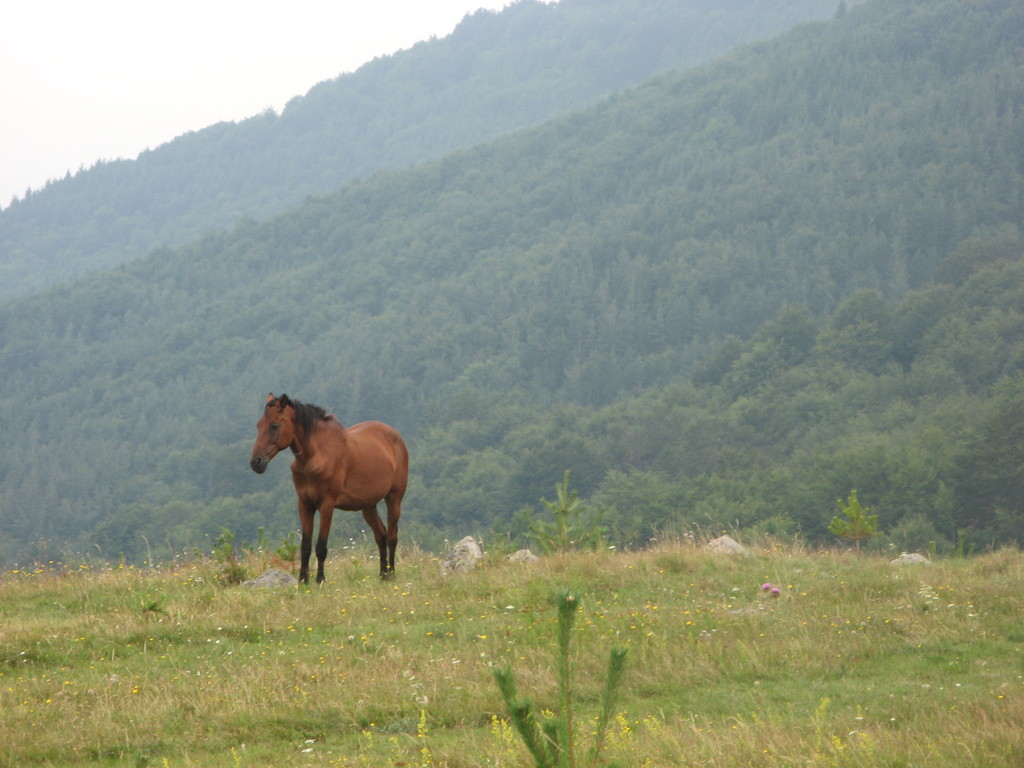horse: (247, 390, 409, 586)
